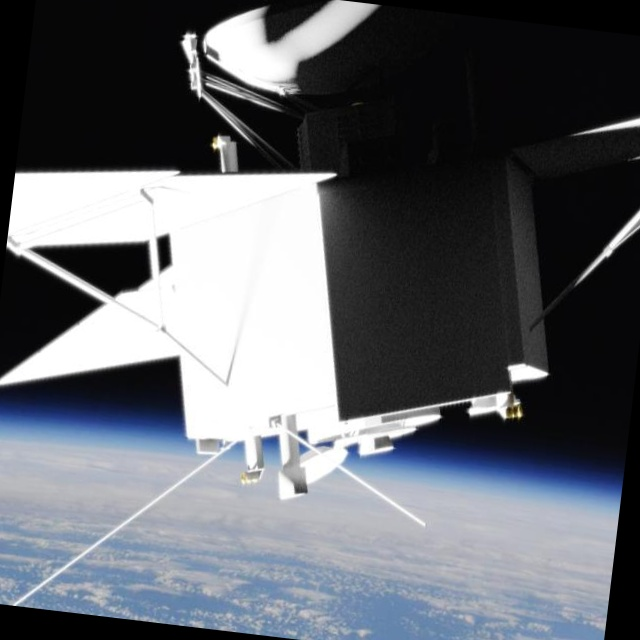satellite: (0, 0, 640, 558)
